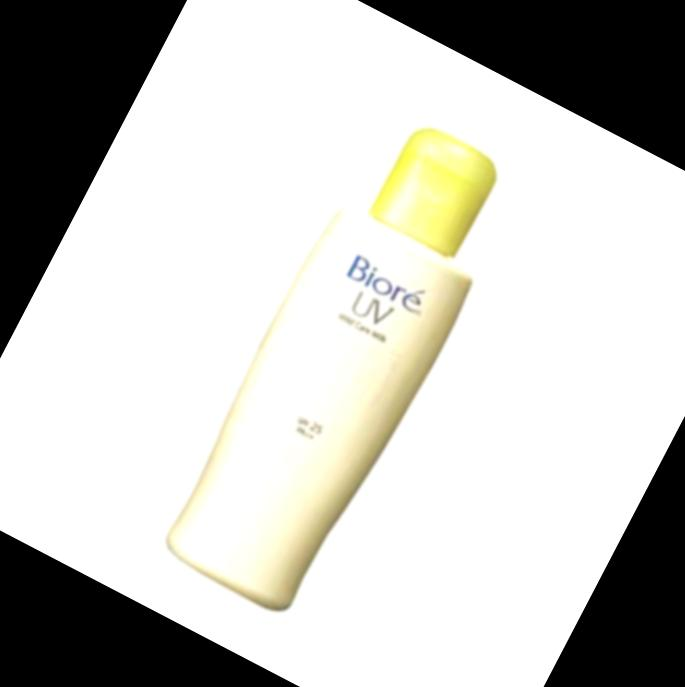cosmetic: (152, 97, 532, 625)
